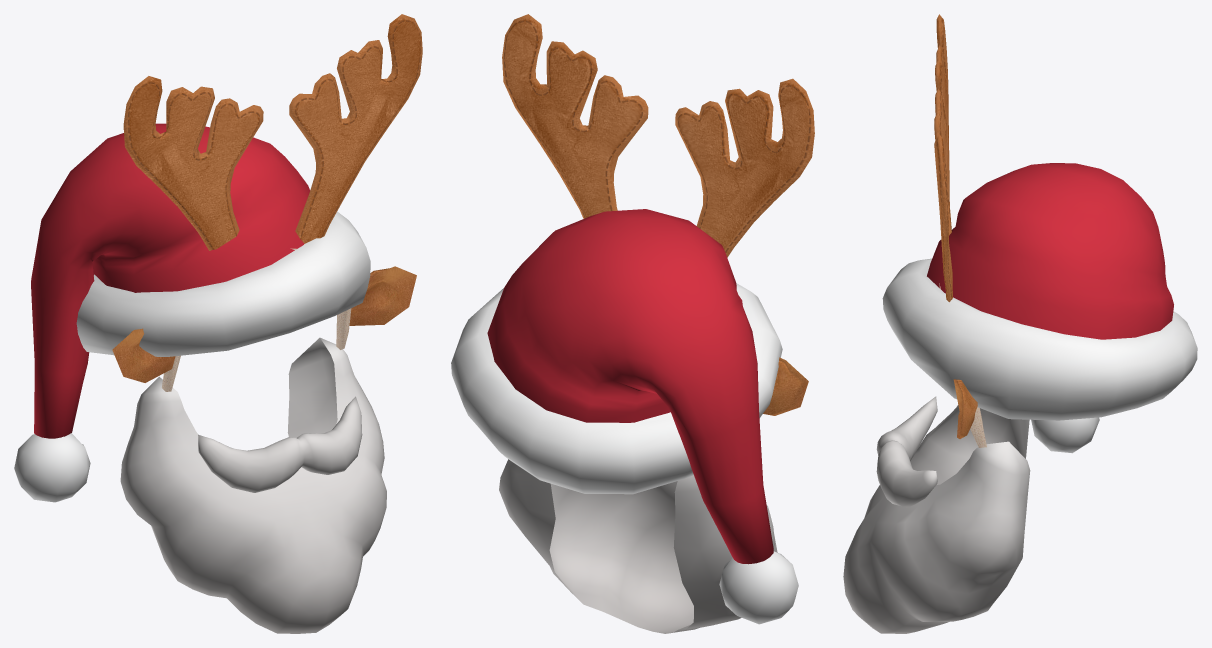
The model's file is NewYearMask.glb.
The picture shows the model from 3 angles, left to right: view 1: azimuth 30°, elevation 25°; view 2: azimuth 150°, elevation 25°; view 3: azimuth 270°, elevation 25°; orthographic projection. The views are drawn at different scales.
Parts seen in each view (by area): view 1: SantaClaus, Reindeer; view 2: SantaClaus, Reindeer; view 3: SantaClaus, Reindeer.
Boxes of the visible parts, x1=… form: SantaClaus: x1=14, y1=123, x2=386, y2=633; Reindeer: x1=112, y1=14, x2=422, y2=391; SantaClaus: x1=451, y1=209, x2=798, y2=633; Reindeer: x1=502, y1=14, x2=814, y2=415; SantaClaus: x1=843, y1=163, x2=1197, y2=633; Reindeer: x1=934, y1=14, x2=986, y2=447.
Size of the model in its own units: 1.47 by 2.32 by 1.35.
2 materials, 2 textured.
